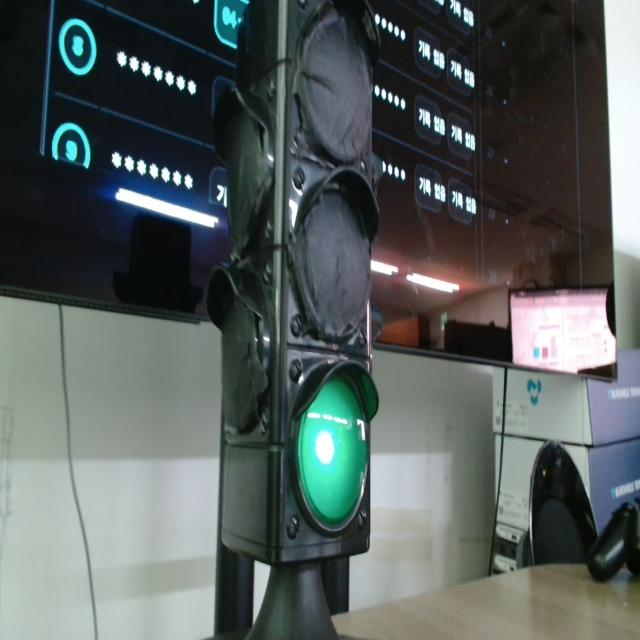green_light: (298, 377, 367, 526)
